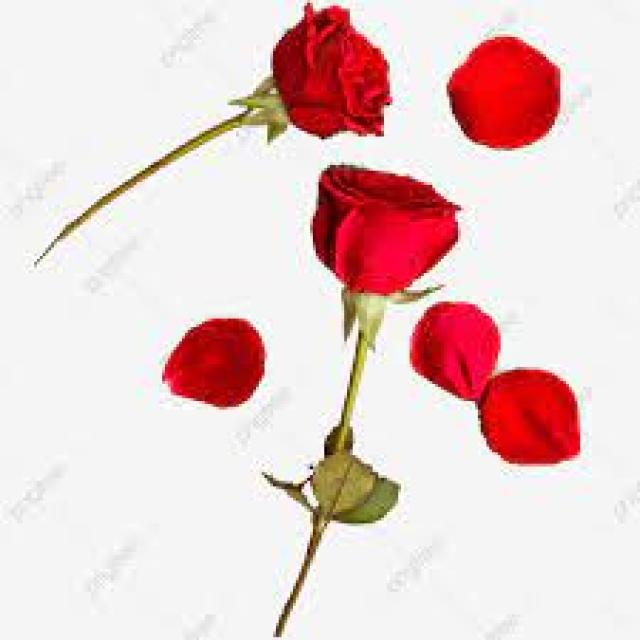rose: (230, 0, 404, 158)
